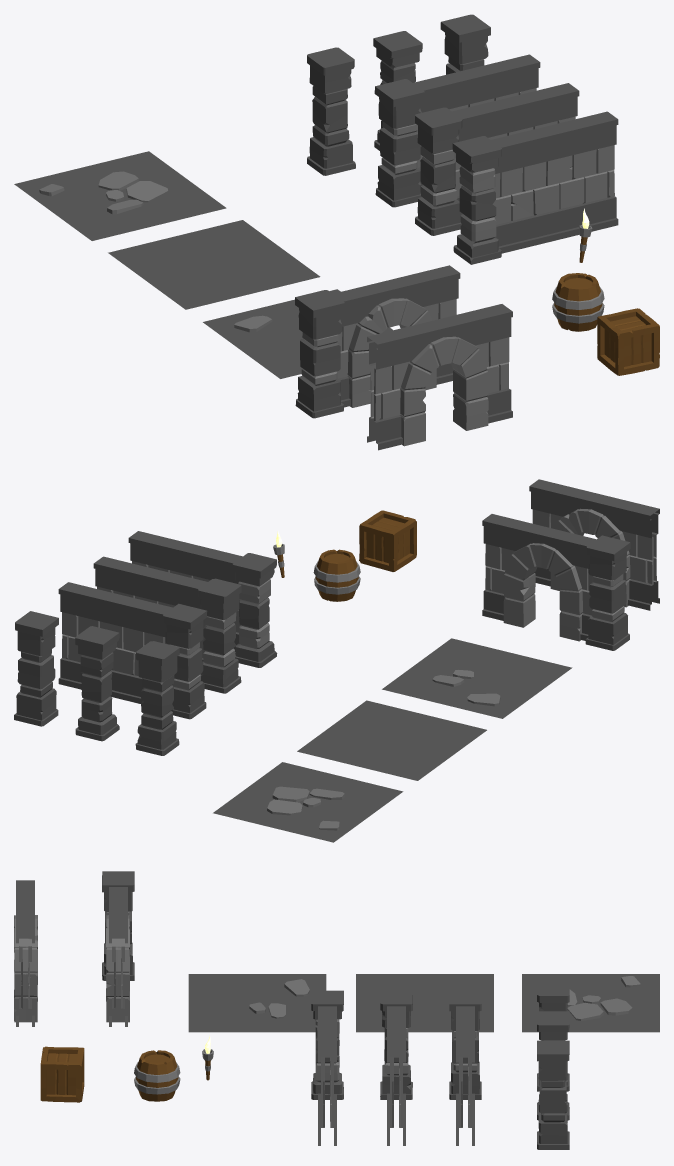
Rendered from Dungeon_Complete_Assets.fbx.
The picture shows the model from 3 angles, top to bottom: view 1: azimuth 30°, elevation 25°; view 2: azimuth 150°, elevation 25°; view 3: azimuth 270°, elevation 25°; orthographic projection. The views are drawn at different scales.
Visible parts, largest first — view 1: wall_1, door_no_pillar, door_with_pillar, floor_1, floor_3, wall_3, wall_2, pillar_3, floor_2, crate, barrel, pillar_1 (+1 smaller); view 2: door_with_pillar, wall_3, floor_2, floor_3, floor_1, door_no_pillar, wall_2, wall_1, pillar_1, pillar_3, pillar_2, crate (+1 smaller); view 3: floor_2, floor_3, floor_1, door_with_pillar, wall_3, wall_2, wall_1, pillar_1, door_no_pillar, crate, barrel, pillar_2 (+1 smaller).
Boxes of the visible parts, left/top/right/bottom form: wall_1: left=452, top=111, right=618, bottom=264; door_no_pillar: left=367, top=304, right=512, bottom=450; door_with_pillar: left=295, top=265, right=460, bottom=418; floor_1: left=108, top=220, right=320, bottom=309; floor_3: left=14, top=151, right=226, bottom=240; wall_3: left=374, top=54, right=540, bottom=207; wall_2: left=415, top=83, right=579, bottom=235; pillar_3: left=307, top=47, right=355, bottom=175; floor_2: left=203, top=289, right=392, bottom=378; crate: left=597, top=308, right=659, bottom=375; barrel: left=552, top=273, right=604, bottom=331; pillar_1: left=440, top=14, right=490, bottom=74; door_with_pillar: left=482, top=514, right=630, bottom=650; wall_3: left=58, top=582, right=207, bottom=719; floor_2: left=382, top=638, right=572, bottom=718; floor_3: left=213, top=762, right=403, bottom=842; floor_1: left=297, top=700, right=486, bottom=780; door_no_pillar: left=529, top=479, right=659, bottom=610; wall_2: left=93, top=556, right=241, bottom=693; wall_1: left=128, top=531, right=277, bottom=667; pillar_1: left=14, top=611, right=58, bottom=726; pillar_3: left=135, top=641, right=179, bottom=755; pillar_2: left=75, top=626, right=119, bottom=741; crate: left=359, top=510, right=416, bottom=571; floor_2: left=188, top=974, right=326, bottom=1032; floor_3: left=522, top=974, right=659, bottom=1032; floor_1: left=356, top=974, right=493, bottom=1032; door_with_pillar: left=102, top=871, right=134, bottom=1026; wall_3: left=449, top=990, right=481, bottom=1145; wall_2: left=380, top=990, right=412, bottom=1145; wall_1: left=311, top=990, right=343, bottom=1145; pillar_1: left=537, top=1040, right=569, bottom=1149; door_no_pillar: left=14, top=880, right=37, bottom=1026; crate: left=40, top=1046, right=84, bottom=1102; barrel: left=134, top=1050, right=180, bottom=1101; pillar_2: left=537, top=1011, right=569, bottom=1120.
Size of the model in its own units: 1265 by 317 by 1873.
